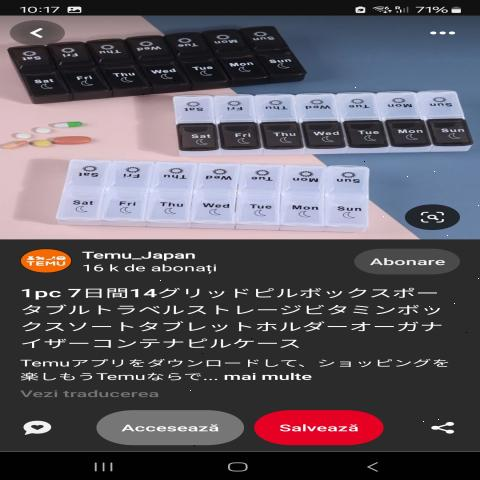PillBox: (9, 20, 333, 110), (166, 86, 480, 157)
